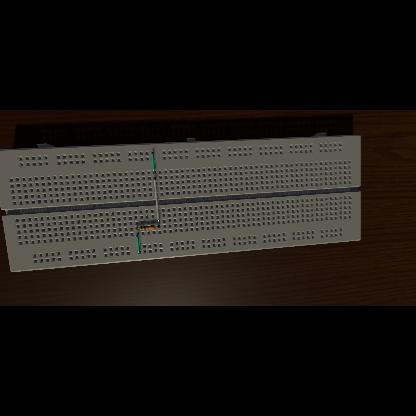breadboard: (0, 133, 360, 273)
resistor: (139, 226, 155, 231)
wire: (154, 178, 160, 222), (152, 152, 156, 174), (136, 233, 140, 253), (156, 226, 160, 228), (136, 228, 140, 229)
